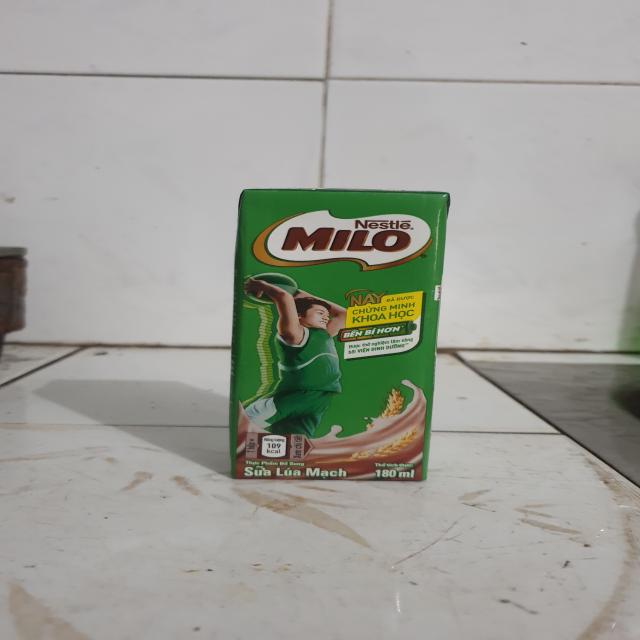Milo: (224, 192, 461, 484)
